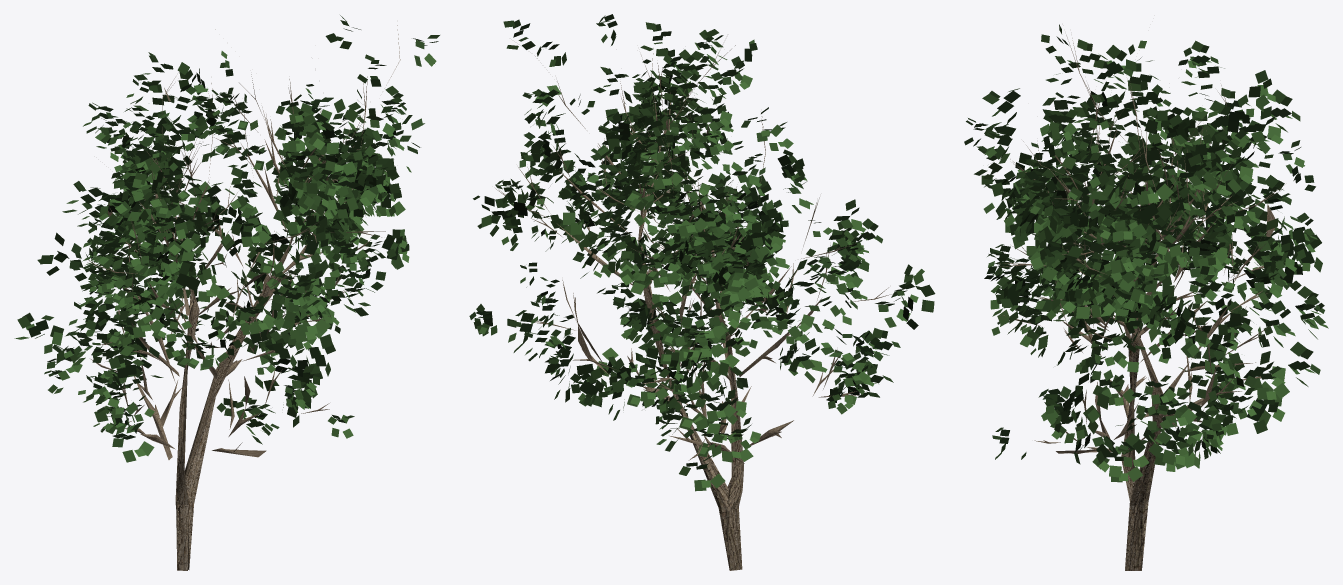
Rendered from tree26905.fbx.
3 renders of one model, left to right at view 1: azimuth 30°, elevation 25°; view 2: azimuth 150°, elevation 25°; view 3: azimuth 270°, elevation 25°, orthographic. The views are drawn at different scales.
Visible parts, largest first — view 1: Tree_LOD_2; view 2: Tree_LOD_2; view 3: Tree_LOD_2.
Boxes of the visible parts, left/top/right/bottom form: Tree_LOD_2: left=14, top=15, right=439, bottom=570; Tree_LOD_2: left=469, top=14, right=935, bottom=570; Tree_LOD_2: left=964, top=24, right=1328, bottom=570.
Size of the model in its own units: 836 by 1009 by 577.
Materials: 2 (1 with a texture image).
